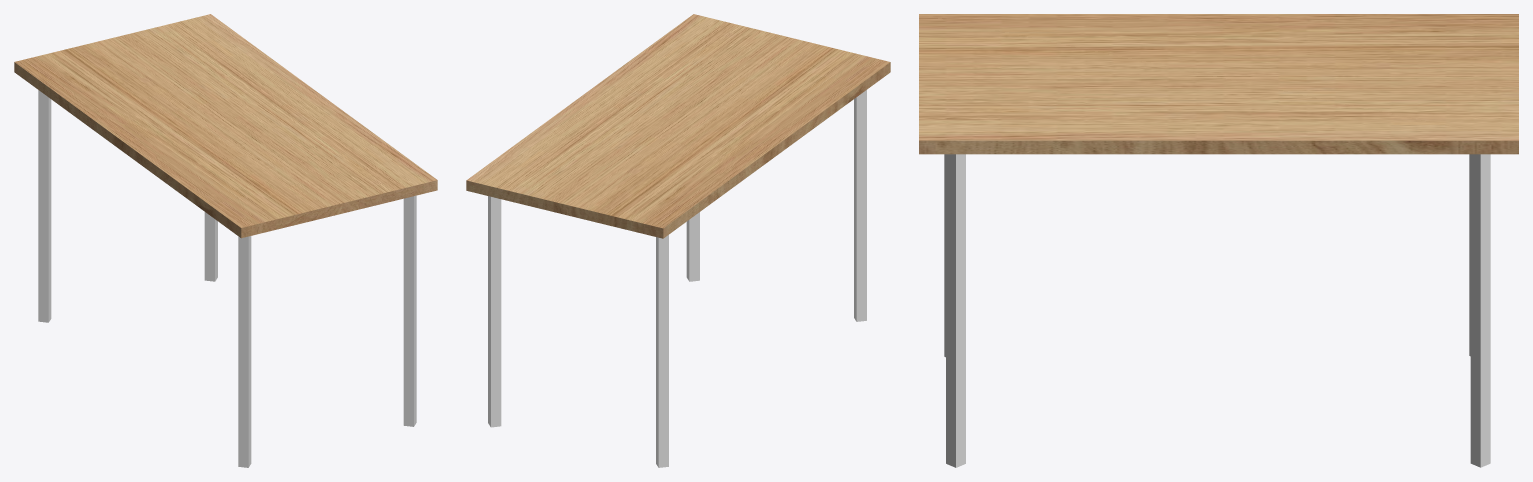
File: desk.fbx
The picture shows the model from 3 angles, left to right: view 1: azimuth 30°, elevation 25°; view 2: azimuth 150°, elevation 25°; view 3: azimuth 270°, elevation 25°; orthographic projection. The views are drawn at different scales.
Visible parts, largest first — view 1: Desk.002; view 2: Desk.002; view 3: Desk.002.
Part boxes in pixels (box(x1,y1,x2,y2)): Desk.002: box(14, 14, 437, 467); Desk.002: box(466, 14, 890, 467); Desk.002: box(919, 14, 1518, 467).
Size of the model in its own units: 60 by 73.23 by 120.
